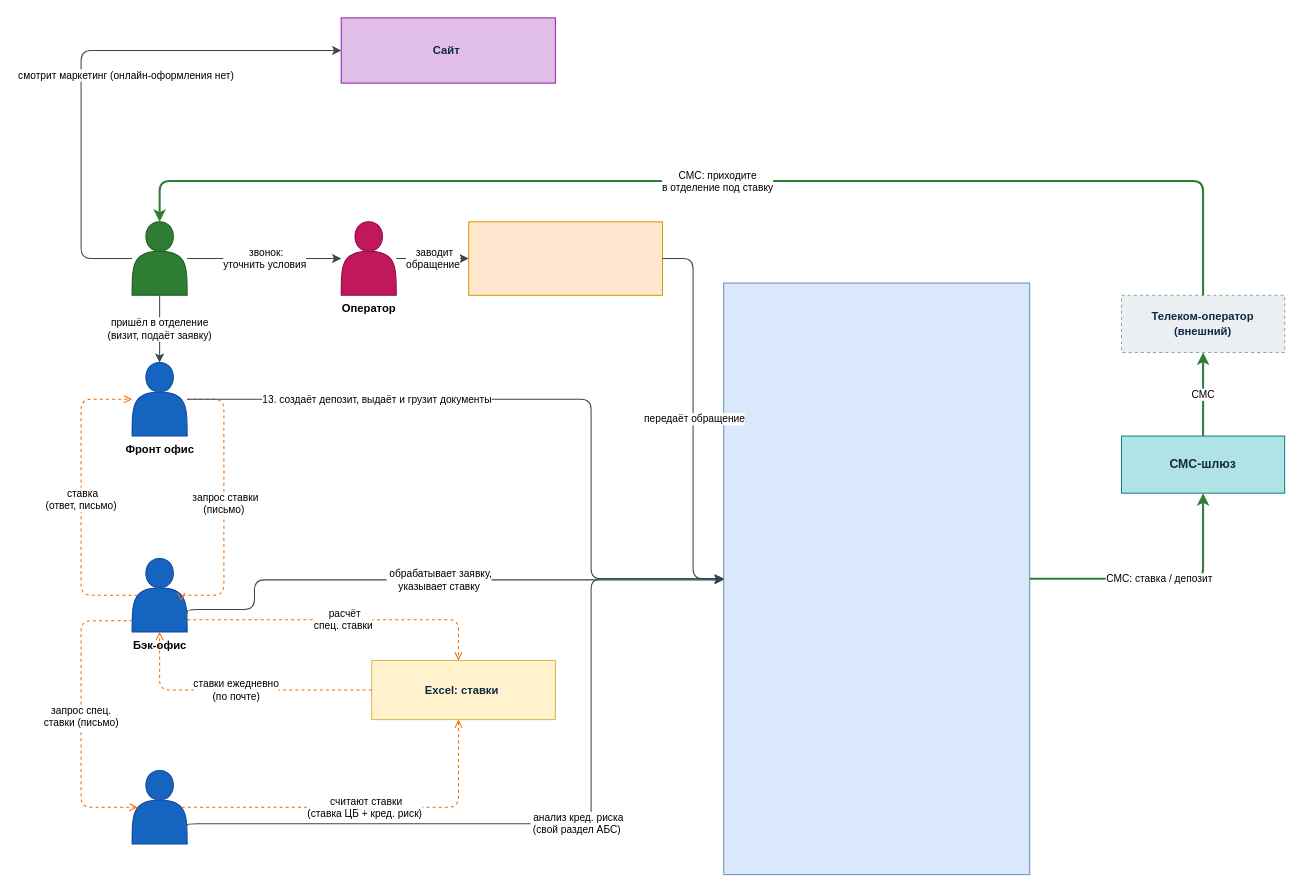
Some shapes in this 1303 by 893 pixel diagram are drawn without their labels. Here are the shapes that lost their labels. From the top down, the centre of each, then its label:
point (159, 258): Клиент
point (565, 258): Система кол-центра (как партнерская так и своя)
point (876, 578): АБС
point (159, 807): Сотрудник кредитования
